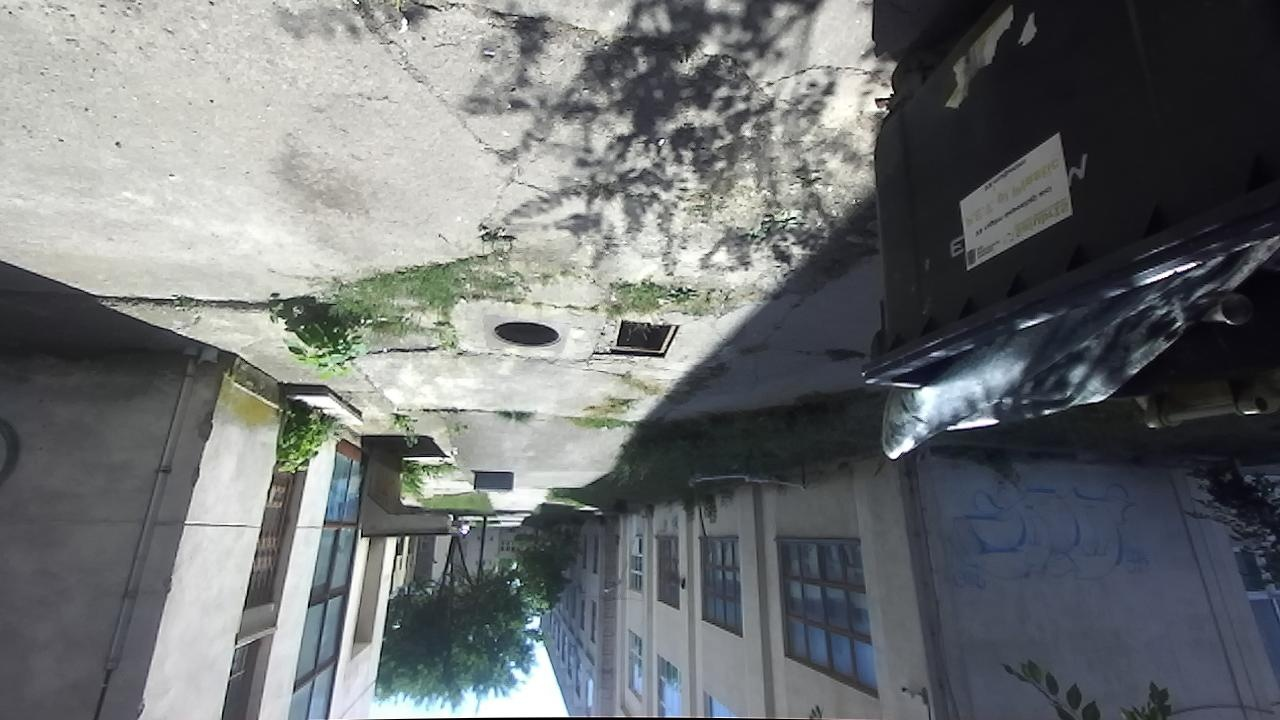drain: (609, 315, 686, 358), (487, 318, 567, 355)
